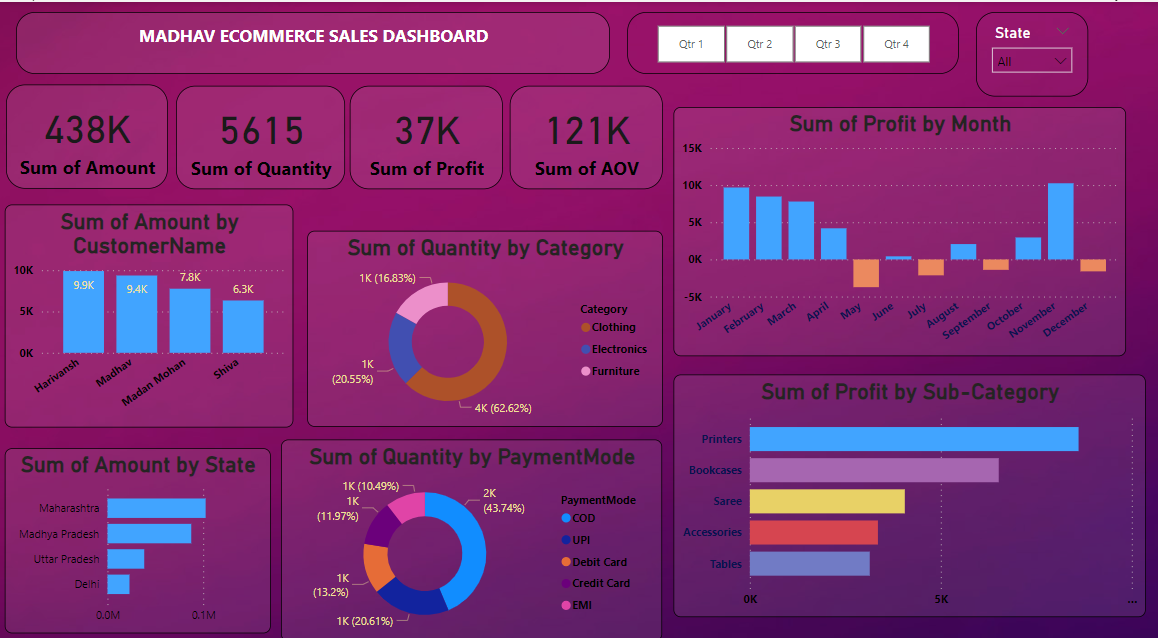

The dashboard page shown, as its layout file describes it:
{"tool":"powerbi","page":{"name":"Page 1","canvas":[1280,720],"ordinal":0},"visuals":[{"type":"textbox","box":[21.3,10.7,652,68],"z":0},{"type":"columnChart","fields":{"Y":["Sum(Details.Profit)"],"Category":["Orders.Order Date.Variation.Date Hierarchy.Month"]},"box":[743.3,115,496.7,273.3],"z":1000},{"type":"clusteredBarChart","fields":{"Category":["Details.Sub-Category"],"Y":["Sum(Details.Profit)"]},"box":[743.3,408.3,518.3,266.7],"z":2000},{"type":"donutChart","fields":{"Category":["Details.Category"],"Y":["Sum(Details.Quantity)"]},"box":[341.7,251.7,390,215],"z":3000},{"type":"donutChart","fields":{"Y":["Sum(Details.Quantity)"],"Category":["Details.PaymentMode"]},"box":[313.3,480,418.3,221.7],"z":3001},{"type":"card","fields":{"Values":["Sum(Details.Amount)"]},"box":[10.7,90.7,177.3,114.7],"z":3002},{"type":"card","fields":{"Values":["Sum(Details.Quantity)"]},"box":[197.3,92,185.3,113.3],"z":3003},{"type":"card","fields":{"Values":["Sum(Details.Profit)"]},"box":[388,92,168,113.3],"z":3004},{"type":"card","fields":{"Values":["Sum(Details.AOV)"]},"box":[564,92,168,113.3],"z":3005},{"type":"clusteredBarChart","fields":{"Category":["Orders.State"],"Y":["Sum(Details.Amount)"]},"box":[10,490,291.7,203.3],"z":3006},{"type":"columnChart","fields":{"Category":["Orders.CustomerName"],"Y":["Sum(Details.Amount)"]},"box":[10,221.7,316.7,245],"z":3007},{"type":"slicer","fields":{"Values":["Orders.Order Date.Variation.Date Hierarchy.Quarter"]},"box":[693.3,10.7,364,68],"z":3008},{"type":"slicer","fields":{"Values":["Orders.State"]},"box":[1076,10.7,123,93],"z":3009}]}

Visuals, with their boxes in screenshot pixels (x1, y1, x2, y2), scaled from the page's 1280x720 canvas onto the 1158x638 screenshot:
textbox: rect(19, 9, 609, 70)
columnChart - Sum(Details.Profit) x Orders.Order Date.Variation.Date Hierarchy.Month: rect(672, 102, 1122, 344)
clusteredBarChart - Details.Sub-Category x Sum(Details.Profit): rect(672, 362, 1141, 598)
donutChart - Details.Category x Sum(Details.Quantity): rect(309, 223, 662, 414)
donutChart - Sum(Details.Quantity) x Details.PaymentMode: rect(283, 425, 662, 622)
card - Sum(Details.Amount): rect(10, 80, 170, 182)
card - Sum(Details.Quantity): rect(178, 82, 346, 182)
card - Sum(Details.Profit): rect(351, 82, 503, 182)
card - Sum(Details.AOV): rect(510, 82, 662, 182)
clusteredBarChart - Orders.State x Sum(Details.Amount): rect(9, 434, 273, 614)
columnChart - Orders.CustomerName x Sum(Details.Amount): rect(9, 196, 296, 414)
slicer - Orders.Order Date.Variation.Date Hierarchy.Quarter: rect(627, 9, 957, 70)
slicer - Orders.State: rect(973, 9, 1085, 92)
